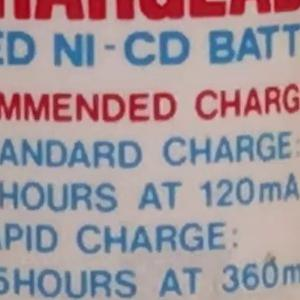NI-CD: (44, 21, 200, 107)
